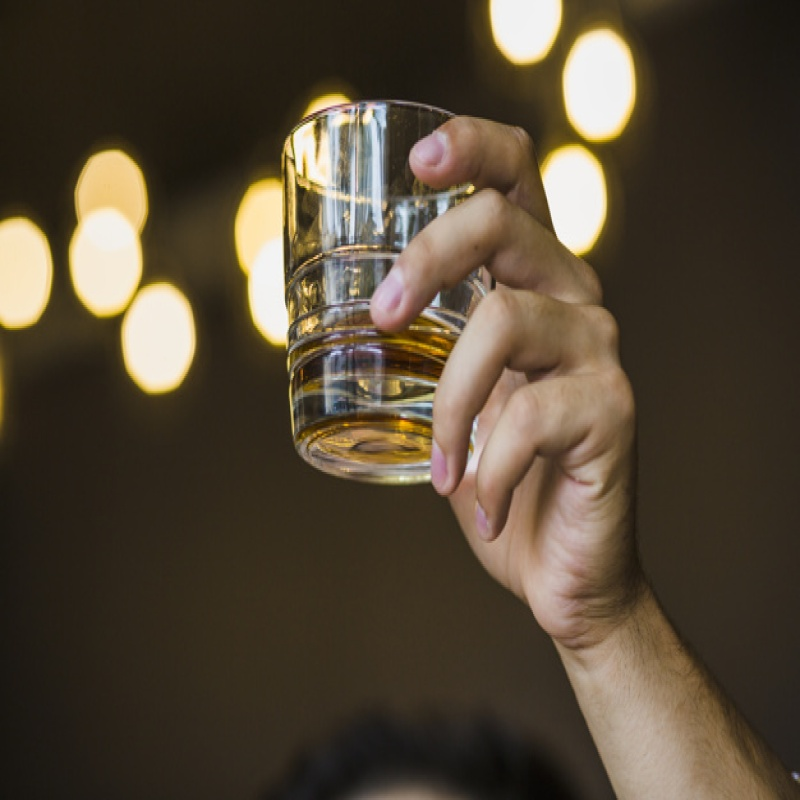whiskey: (278, 99, 487, 485)
